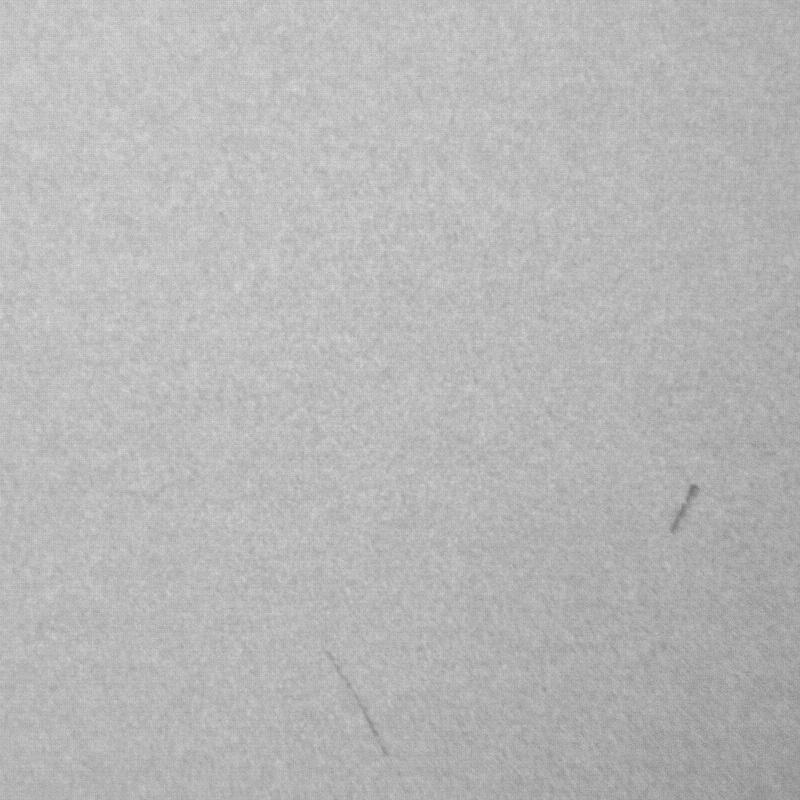defect: (328, 655, 390, 760), (669, 485, 694, 533)
